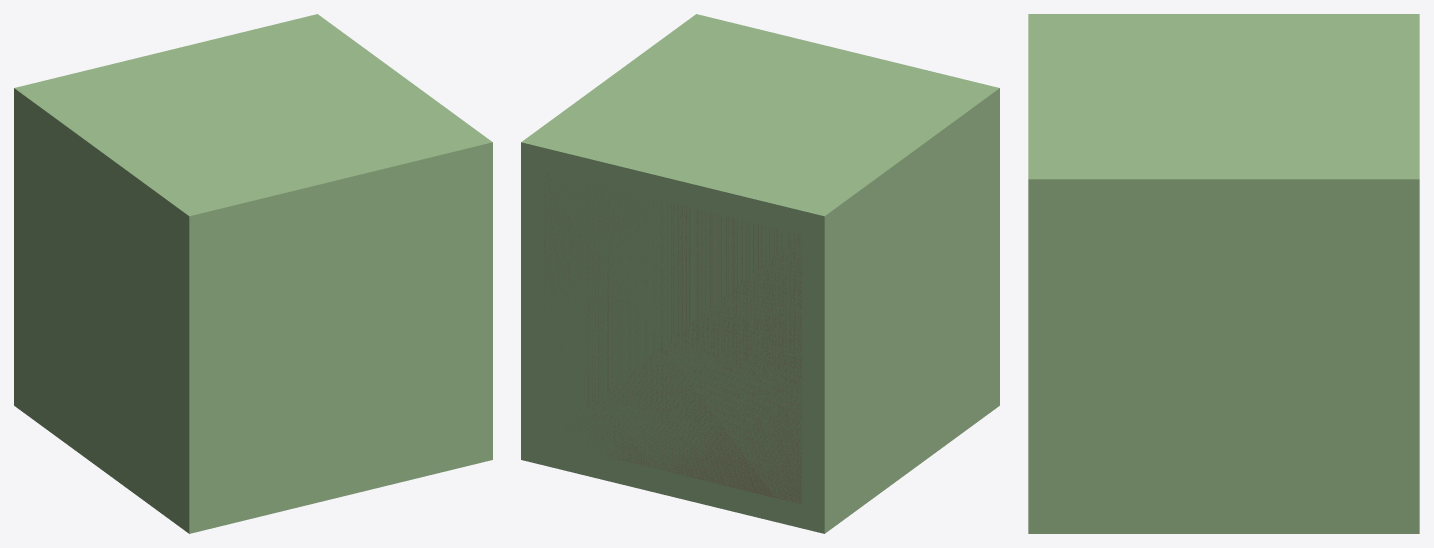
File: 23_sunmere_cactus.glb
The picture shows the model from 3 angles, left to right: view 1: azimuth 30°, elevation 25°; view 2: azimuth 150°, elevation 25°; view 3: azimuth 270°, elevation 25°; orthographic projection. The views are drawn at different scales.
Visible parts, largest first — view 1: Core; view 2: Core, Soil; view 3: Core.
Part boxes in pixels (x1,y1,x2,y2): Core: (14,14,492,533); Core: (521,14,999,533); Soil: (544,173,801,503); Core: (1028,14,1419,533).
Size of the model in its own units: 1 by 1 by 1.
